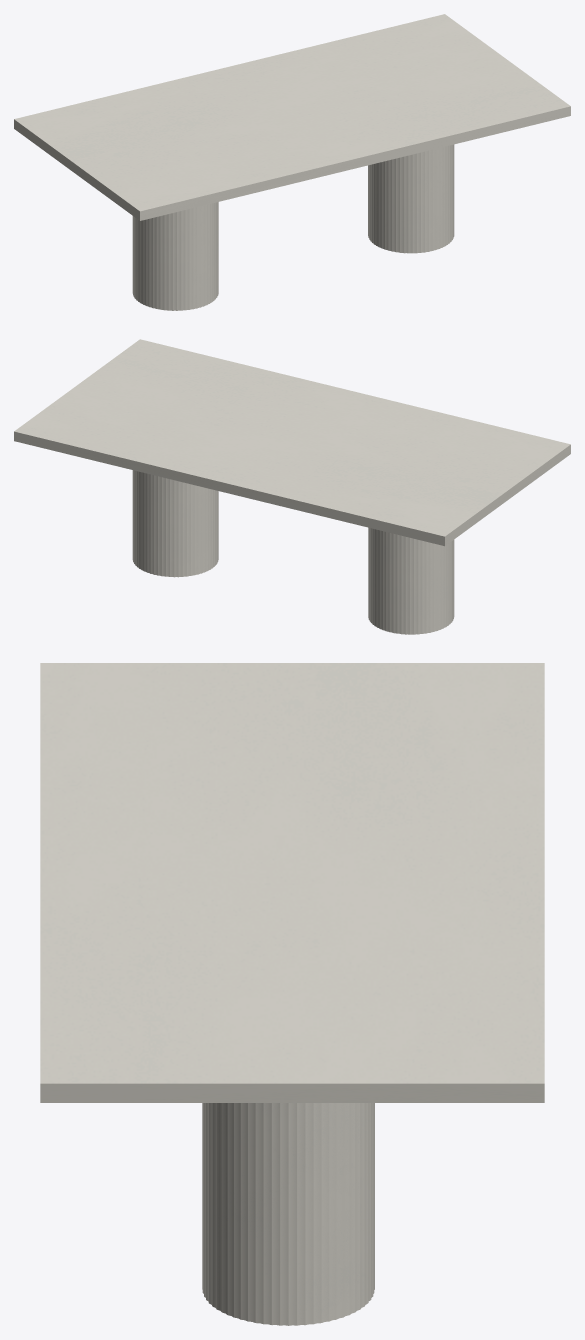
The model's file is pale_recta_standard_ripplesecond.glb.
3 views of the same model, one above another, from view 1: azimuth 30°, elevation 25°; view 2: azimuth 150°, elevation 25°; view 3: azimuth 270°, elevation 25° (orthographic). The views are drawn at different scales.
Parts seen in each view (by area): view 1: standard_recta, ripplesecond; view 2: standard_recta, ripplesecond; view 3: standard_recta, ripplesecond.
Part boxes in pixels (bbox=[...]): standard_recta: bbox=[14, 14, 570, 220]; ripplesecond: bbox=[132, 144, 454, 310]; standard_recta: bbox=[14, 339, 570, 546]; ripplesecond: bbox=[132, 470, 454, 634]; standard_recta: bbox=[40, 663, 544, 1102]; ripplesecond: bbox=[202, 1103, 374, 1325].
Bounding box in the file's own units: 7.5 × 2.5 × 3.8.
Materials: 1 (1 with a texture image).
